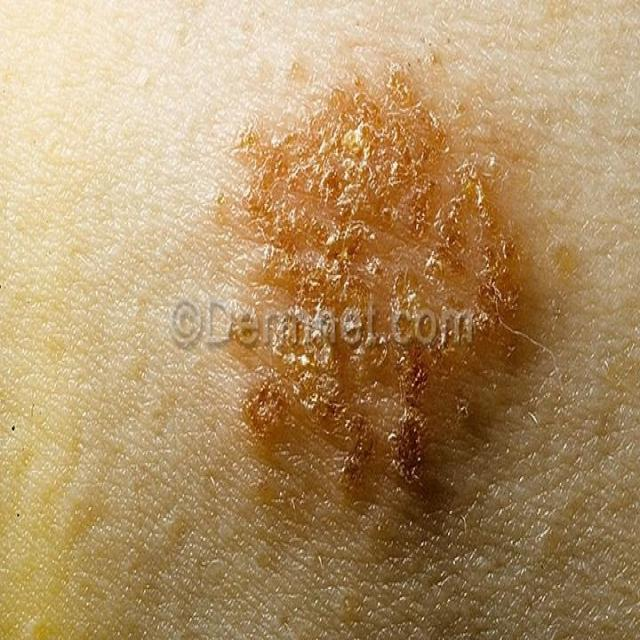Eczema: (213, 31, 533, 548)
